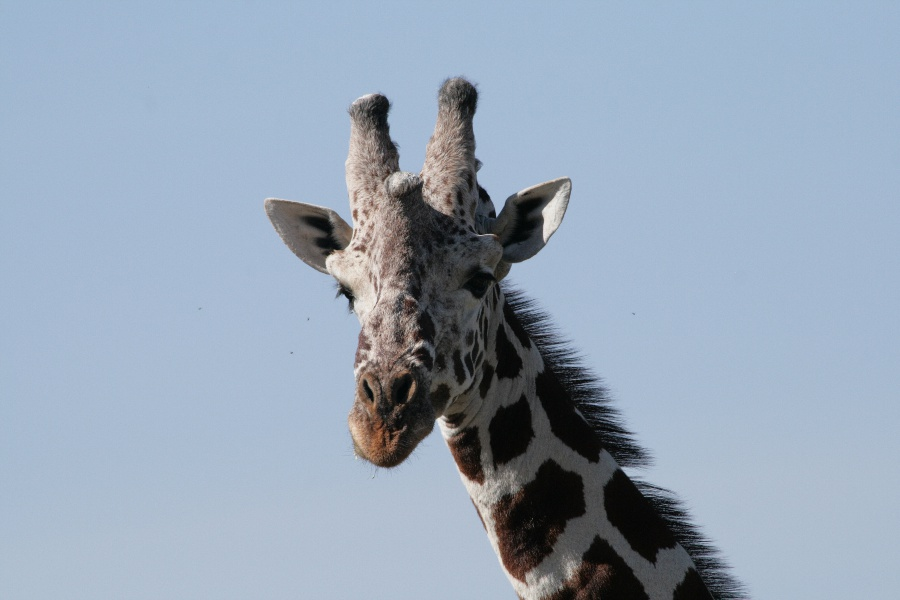giraffe: (254, 67, 758, 597)
